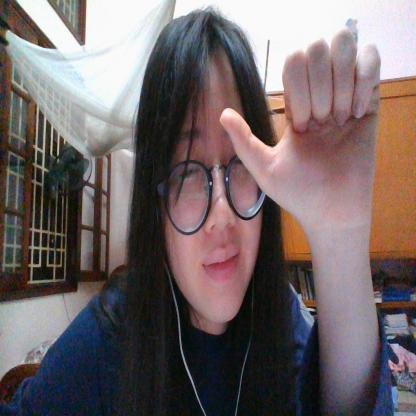right: (220, 31, 382, 239)
